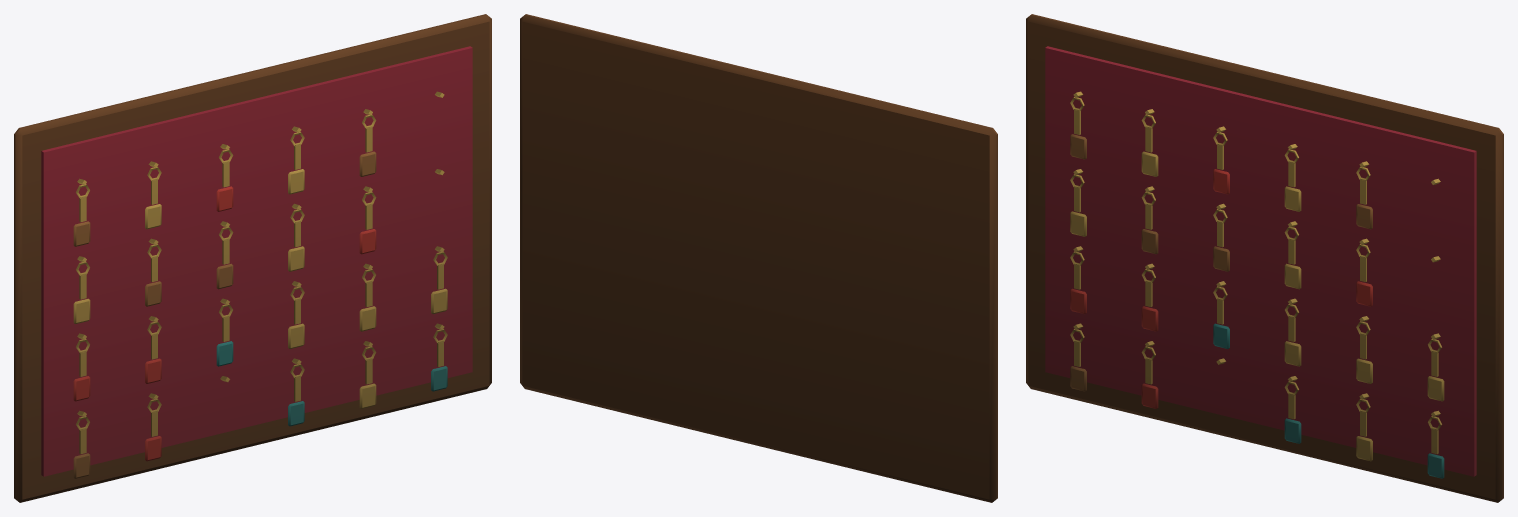
The model's file is 75_tableau_cles.fbx.
3 views of the same model, side by side, from view 1: azimuth 30°, elevation 25°; view 2: azimuth 150°, elevation 25°; view 3: azimuth 330°, elevation 25° (orthographic).
Visible parts, largest first — view 1: Tableau, Cles; view 2: Tableau; view 3: Tableau, Cles.
Part boxes in pixels (bbox=[...]): Tableau: bbox=[14, 14, 491, 502]; Cles: bbox=[73, 114, 447, 478]; Tableau: bbox=[520, 14, 997, 502]; Tableau: bbox=[1026, 14, 1503, 502]; Cles: bbox=[1070, 97, 1444, 478].
Bounding box in the file's own units: 1.12 × 0.84 × 0.056.
Materials: 1 (1 with a texture image).
